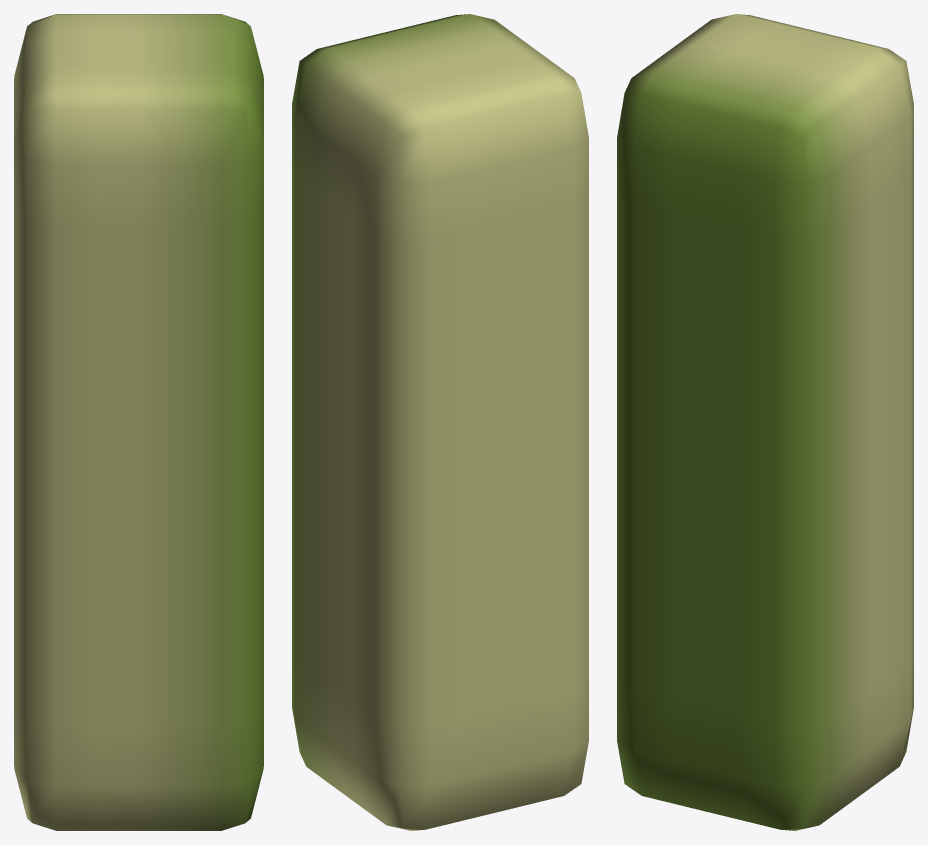
Rendered from avocado.glb.
3 renders of one model, left to right at view 1: azimuth 30°, elevation 25°; view 2: azimuth 150°, elevation 25°; view 3: azimuth 270°, elevation 25°, orthographic. The views are drawn at different scales.
Parts seen in each view (by area): view 1: avocado-1; view 2: avocado-1; view 3: avocado-1.
Part boxes in pixels (x1,y1,x2,y2): avocado-1: [14, 14, 263, 830]; avocado-1: [292, 14, 588, 830]; avocado-1: [617, 14, 913, 830].
Size of the model in its own units: 0.0416 by 0.112 by 0.0416.
